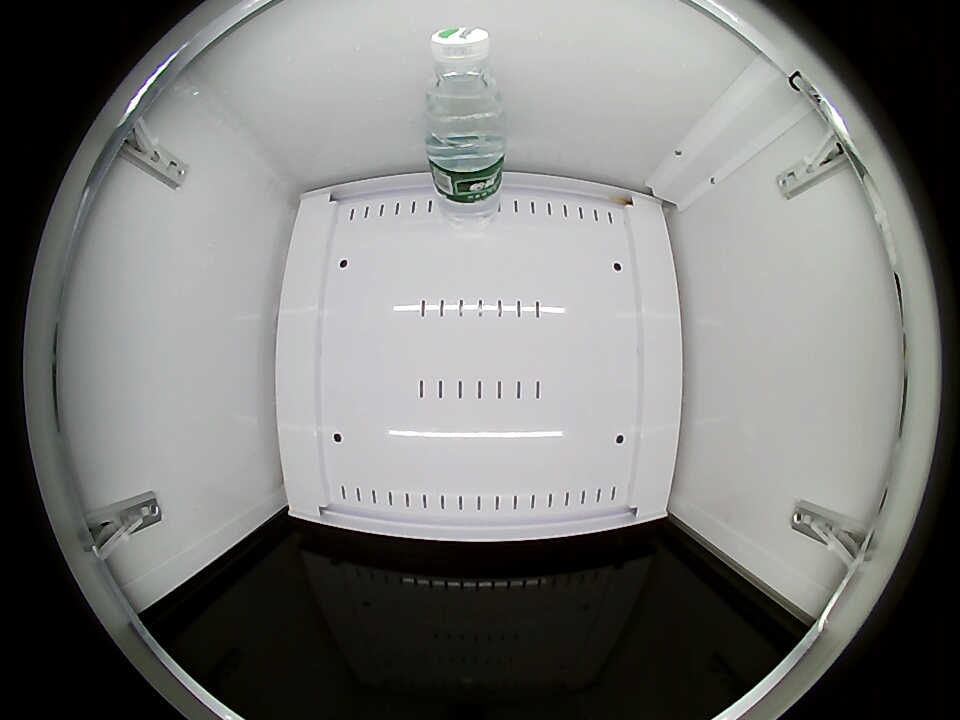yibao: (425, 26, 503, 137)
